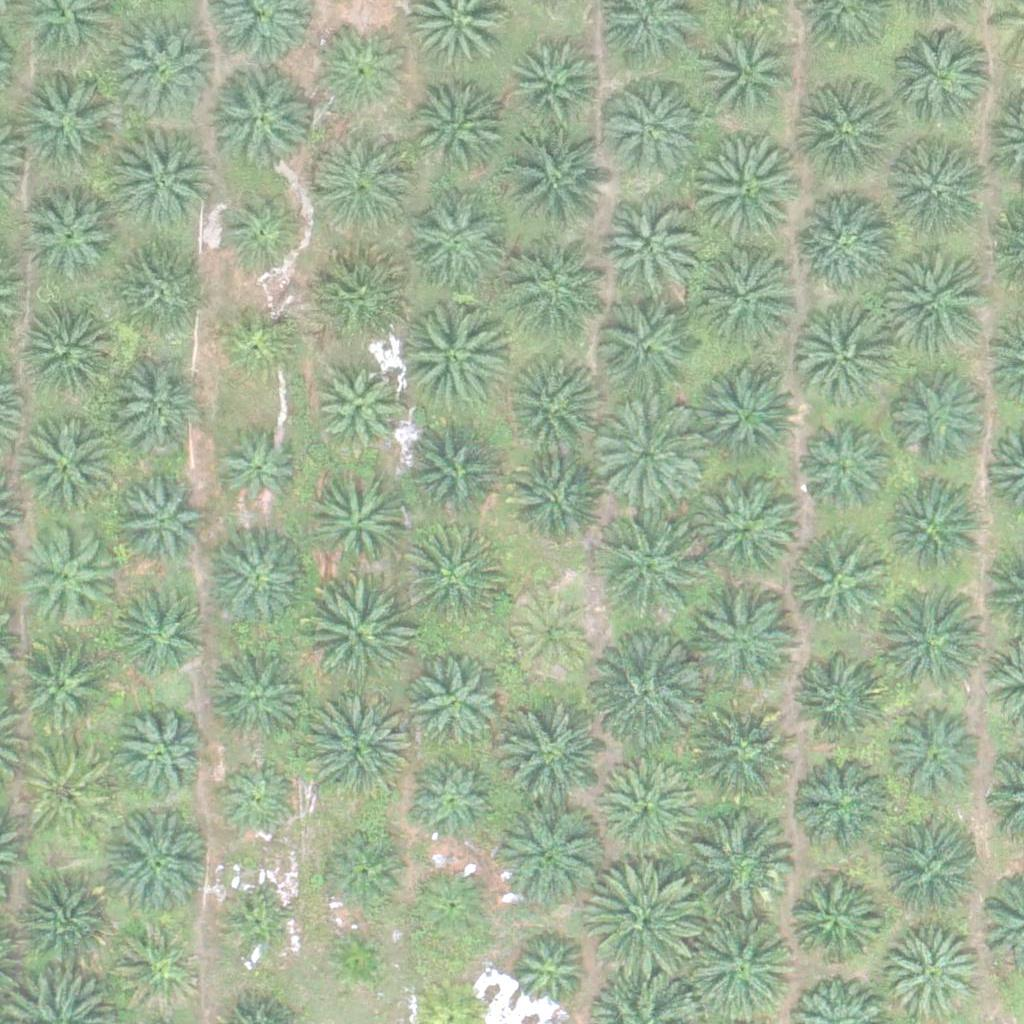Kelapa_Sawit: (589, 512, 702, 626), (390, 298, 503, 411), (689, 136, 802, 249), (881, 243, 994, 356), (682, 805, 795, 918), (589, 638, 702, 751), (299, 691, 412, 804), (300, 579, 413, 692), (887, 133, 999, 247), (685, 906, 797, 1020), (587, 858, 699, 972), (12, 67, 124, 180), (110, 10, 222, 123), (106, 125, 218, 238), (310, 125, 422, 238), (499, 125, 611, 238), (590, 397, 702, 510), (691, 240, 803, 353), (877, 583, 989, 696), (398, 521, 510, 634), (100, 805, 212, 918), (496, 704, 608, 817), (491, 797, 603, 910), (23, 301, 123, 402), (23, 184, 123, 285), (107, 248, 207, 349), (112, 357, 212, 458), (210, 68, 310, 169), (322, 244, 422, 345), (404, 191, 504, 292), (395, 420, 495, 521), (498, 351, 598, 452), (508, 251, 608, 352), (602, 78, 702, 179), (599, 194, 699, 295), (697, 359, 797, 460), (698, 25, 798, 126), (792, 82, 892, 183), (798, 190, 898, 291), (797, 315, 897, 416), (890, 367, 990, 468), (897, 26, 997, 127), (782, 871, 882, 972), (884, 479, 984, 580), (598, 759, 698, 860), (403, 653, 503, 754), (307, 472, 407, 573), (205, 532, 305, 633), (207, 645, 307, 746), (109, 704, 209, 805), (15, 522, 115, 623), (12, 632, 112, 733), (19, 415, 119, 515), (410, 77, 510, 177), (592, 301, 692, 401), (13, 875, 113, 975), (882, 828, 982, 928), (882, 704, 982, 804), (794, 749, 894, 849), (786, 529, 886, 629), (791, 645, 891, 745), (697, 478, 797, 578), (697, 595, 797, 695), (689, 708, 789, 808), (499, 448, 599, 548), (18, 741, 118, 841), (216, 296, 304, 384), (216, 183, 304, 271), (311, 364, 399, 452), (407, 860, 495, 948), (508, 591, 596, 679), (212, 758, 300, 846), (115, 590, 203, 678), (114, 481, 202, 569), (409, 756, 496, 845), (211, 428, 298, 516), (320, 27, 407, 115), (509, 36, 596, 124), (800, 424, 887, 512), (115, 923, 202, 1011), (503, 928, 590, 1016), (318, 830, 405, 918), (318, 922, 393, 998), (224, 893, 299, 968)
